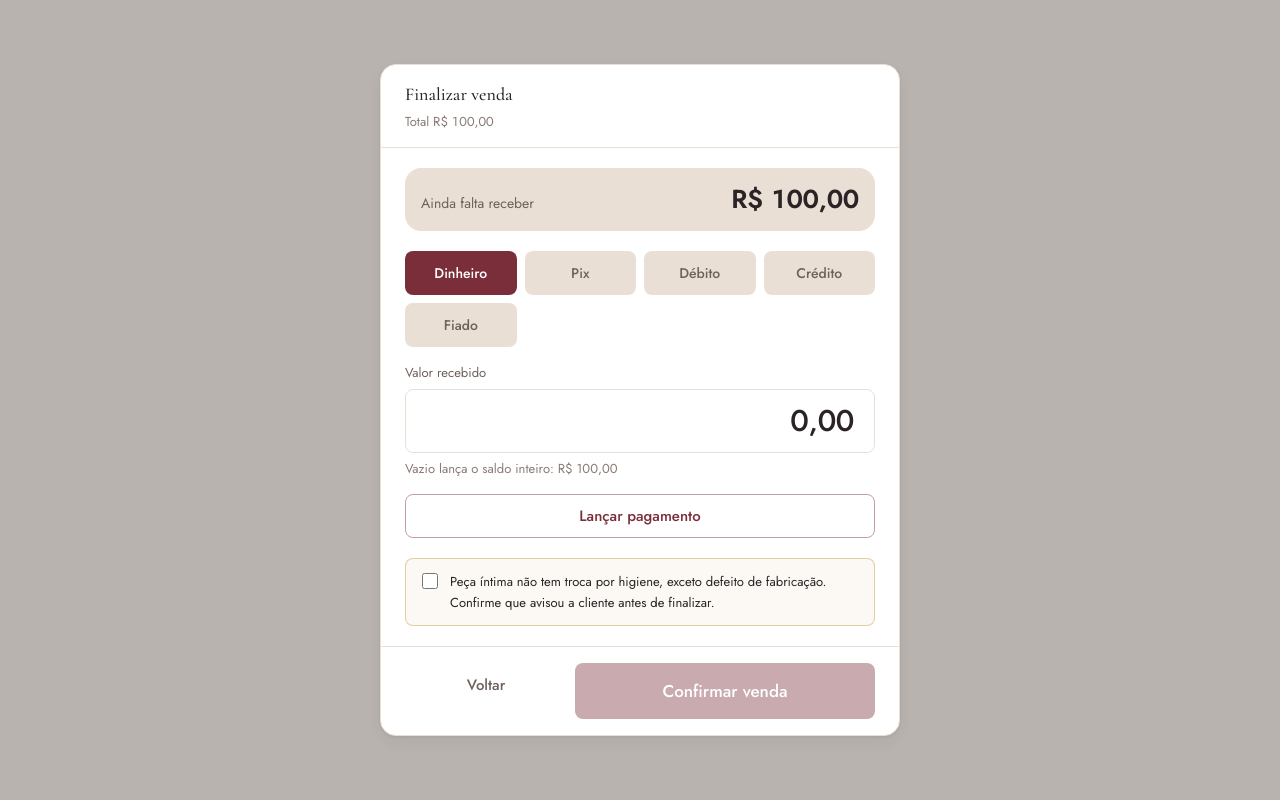
Test: ModalFinalizacao › remover um pagamento lançado reabre o saldo
This screenshot has width=1280, height=800.
Click the button "Lançar pagamento".
click(640, 516)  # box [405,494,875,538]
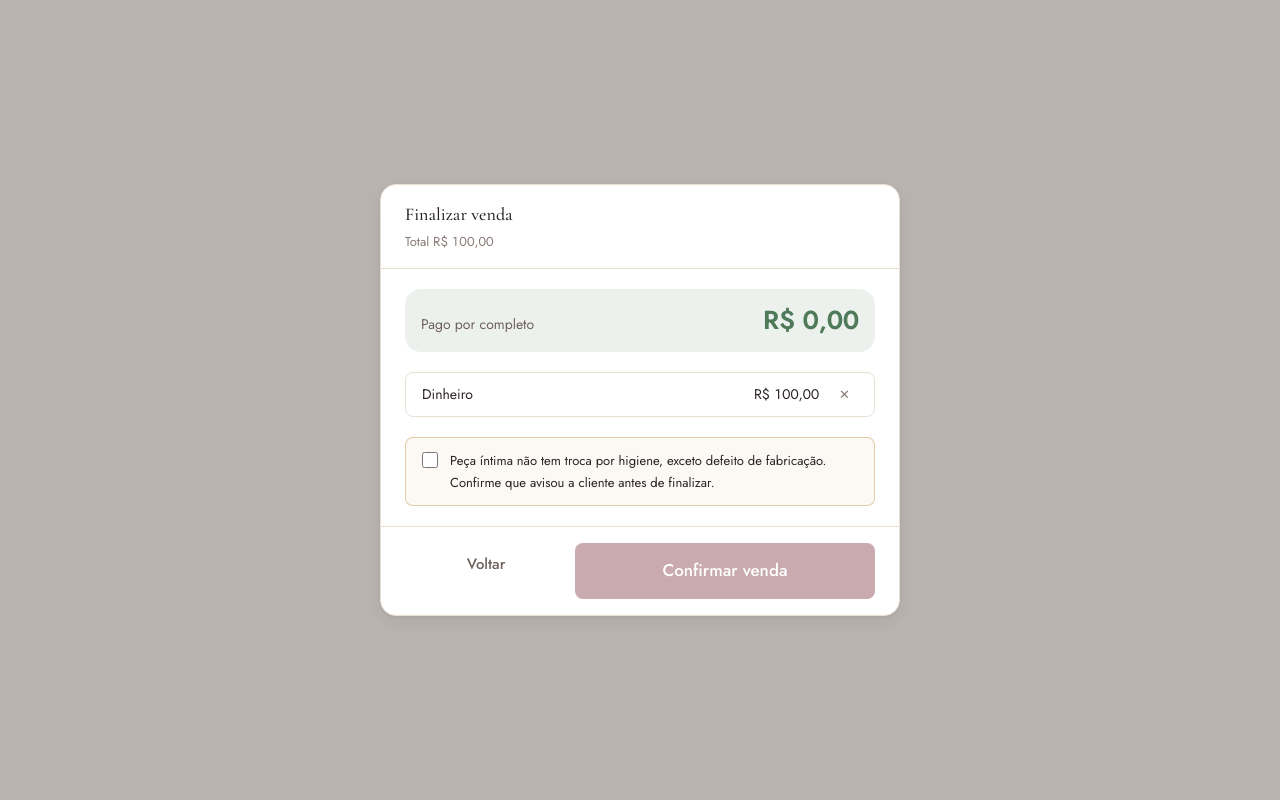
Check: the text "Pago por completo" is shown, box [421,314,534,335]
Click the button named "Remover pagamento em DINHEIRO".
click(845, 395)  # box [831,383,858,406]
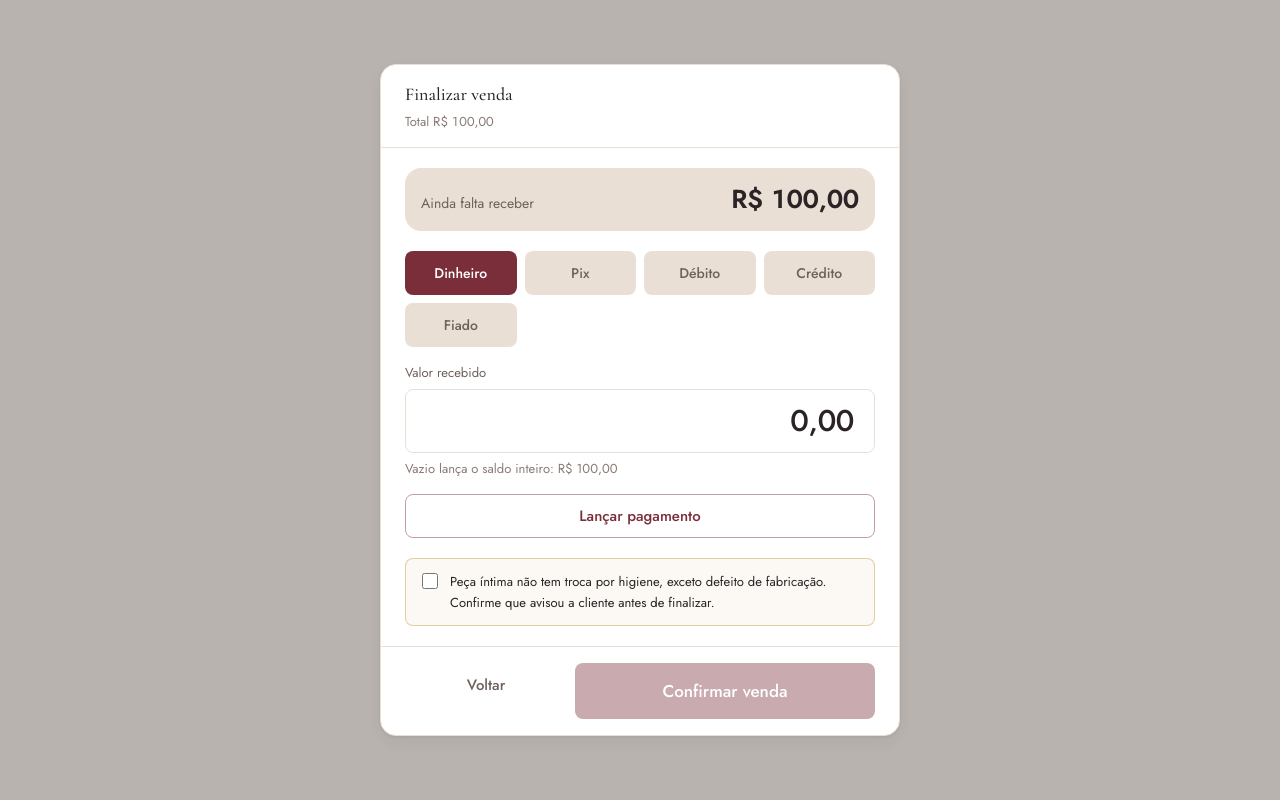
Check: the button "Confirmar venda" is disabled, box [575,663,875,719]
Check: the text "Ainda falta receber" is shown, box [421,193,534,214]
